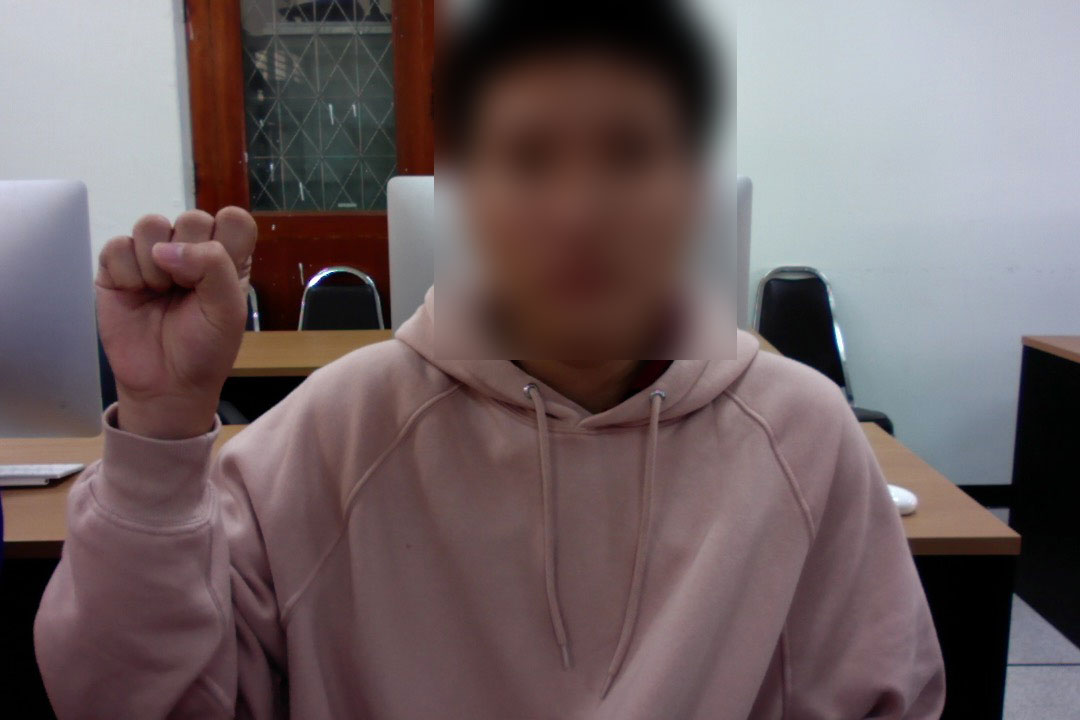sor: (87, 203, 268, 425)
